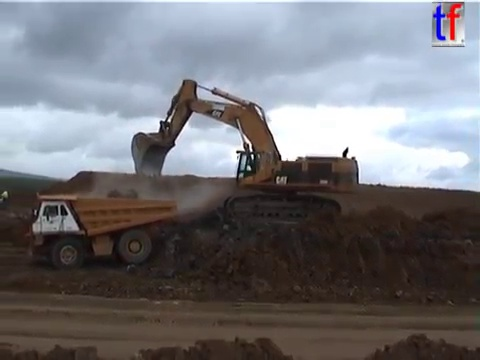excavator: (127, 77, 362, 226)
truck: (22, 189, 179, 272)
worker: (1, 186, 10, 214)
